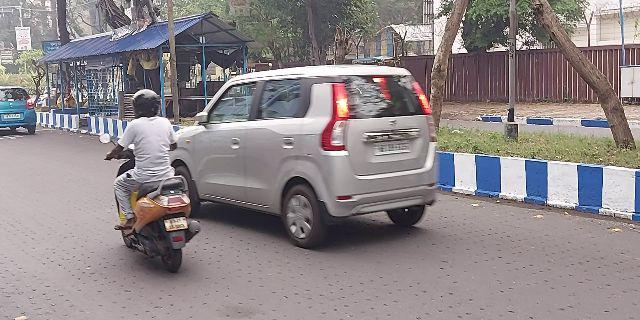Car: (172, 65, 450, 247), (1, 85, 39, 130)
Motorbike: (95, 78, 205, 269)
